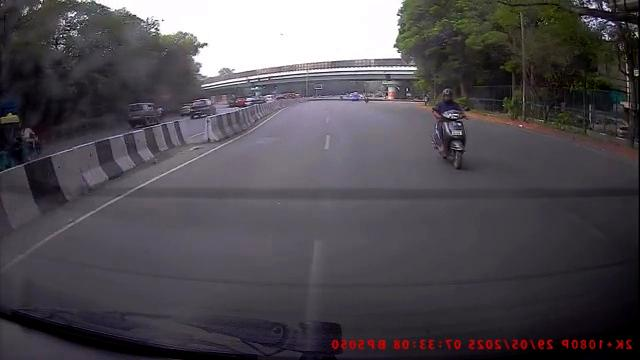motorcycle_with_helmet: (431, 86, 469, 171)
